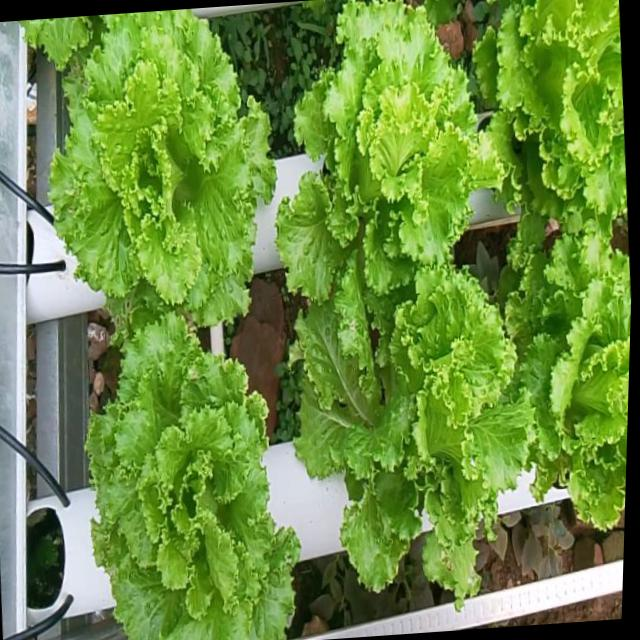Mature: (298, 263, 540, 601), (38, 8, 283, 318), (89, 302, 304, 640), (283, 0, 502, 316), (516, 237, 631, 538), (485, 0, 627, 238)
